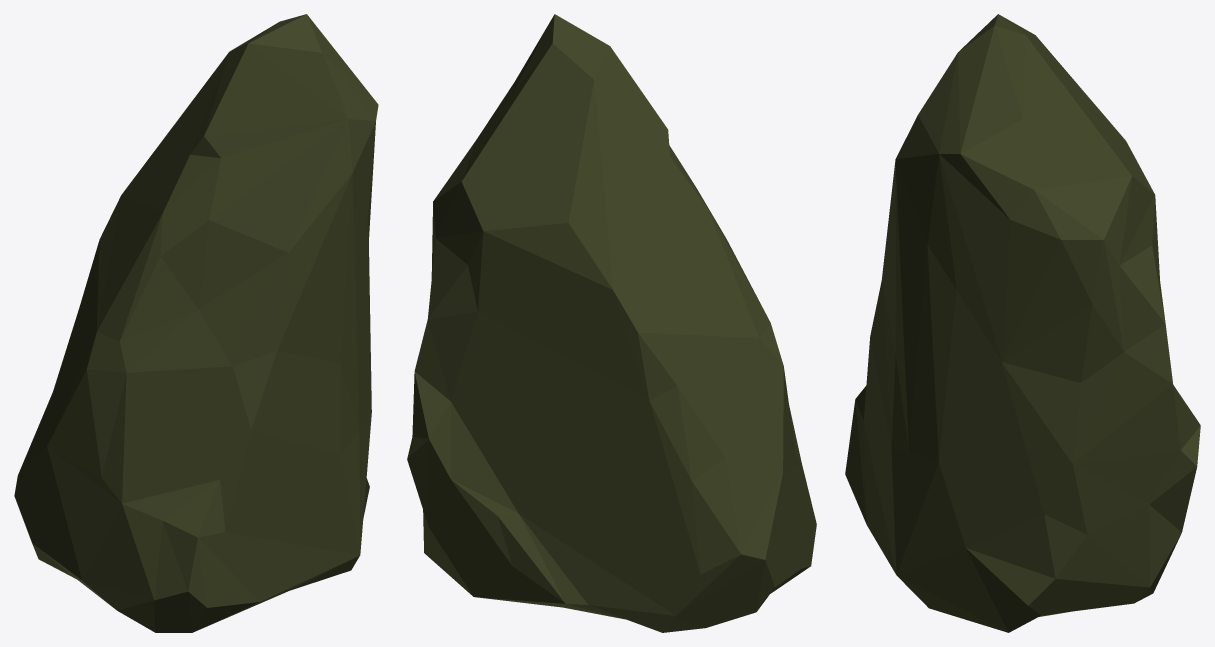
File: SM_small_rock_17.fbx
The picture shows the model from 3 angles, left to right: view 1: azimuth 30°, elevation 25°; view 2: azimuth 150°, elevation 25°; view 3: azimuth 270°, elevation 25°; orthographic projection. The views are drawn at different scales.
Parts seen in each view (by area): view 1: small_rock_17; view 2: small_rock_17; view 3: small_rock_17.
Boxes of the visible parts, left/top/right/bottom form: small_rock_17: left=14, top=14, right=378, bottom=632; small_rock_17: left=407, top=14, right=816, bottom=632; small_rock_17: left=845, top=14, right=1200, bottom=632.
Bounding box in the file's own units: 11.8 × 18.43 × 10.29.
